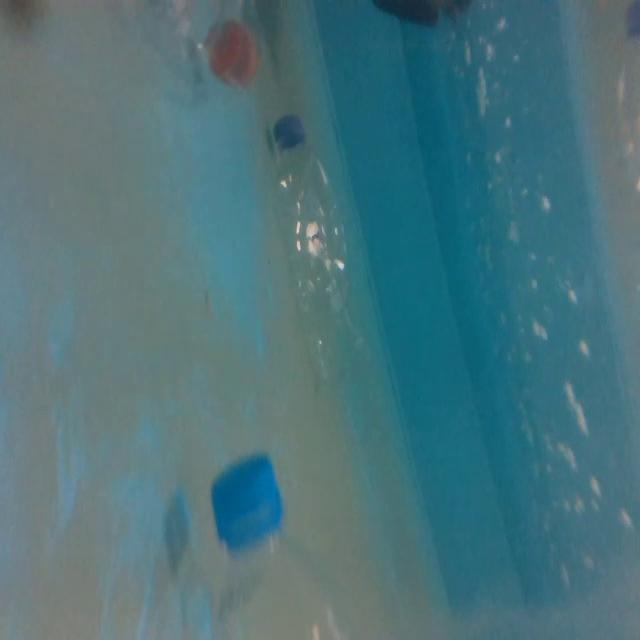plastic bottle: (263, 106, 380, 400), (191, 445, 343, 640)
